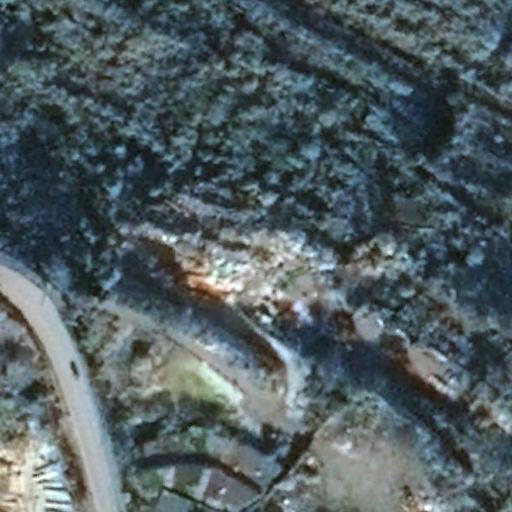msw: (176, 241, 321, 343)
